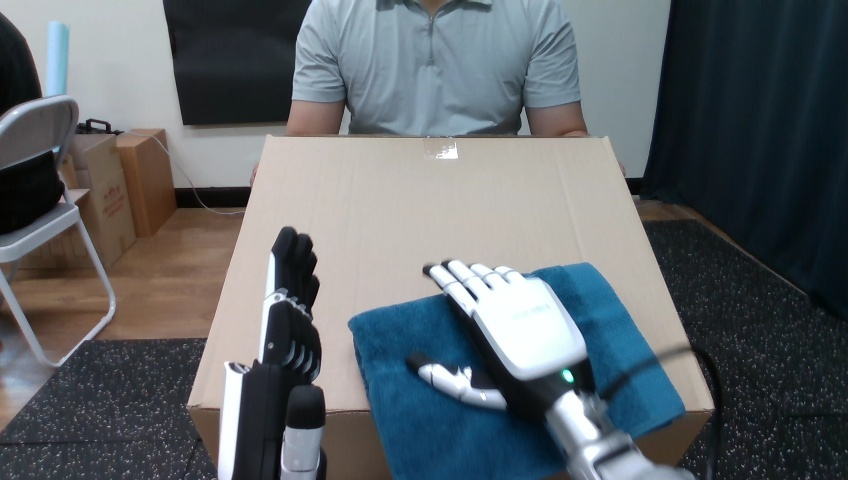left robot hand: (407, 259, 693, 479), (218, 227, 320, 479)
